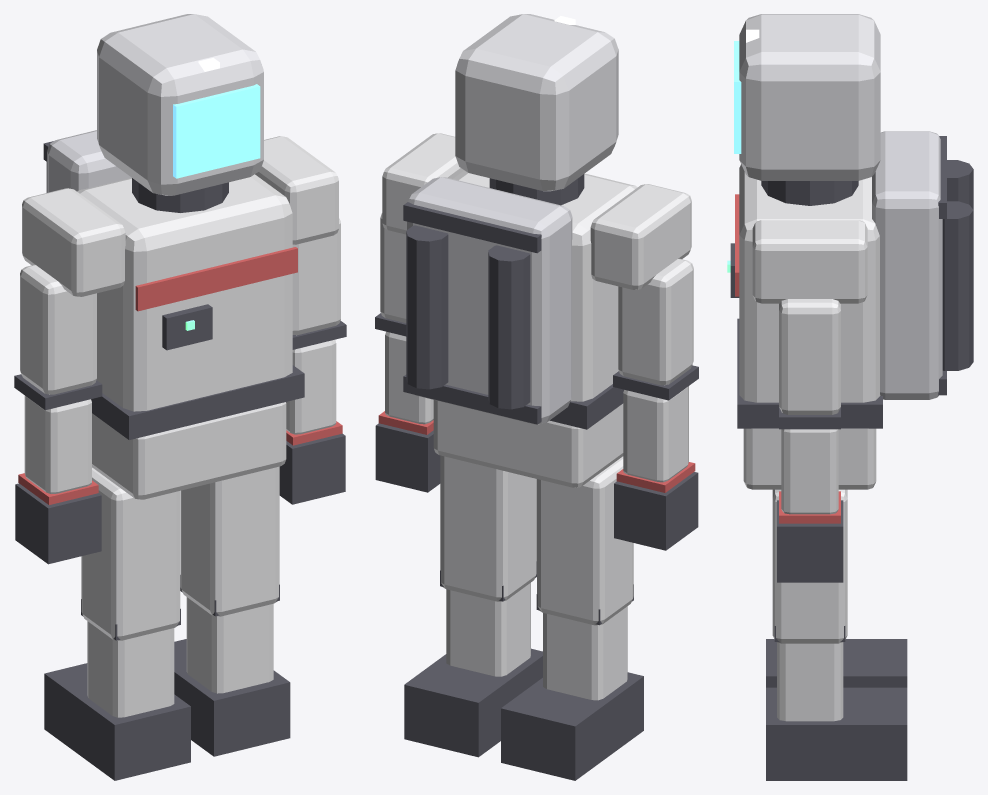
The model's file is astronaut.glb.
3 views of the same model, side by side, from view 1: azimuth 30°, elevation 25°; view 2: azimuth 150°, elevation 25°; view 3: azimuth 270°, elevation 25° (orthographic). The views are drawn at different scales.
Visible parts, largest first — view 1: Torso, Helmet, LeftUpperLeg, RightUpperLeg, Hips, LeftBoot, LeftShoulder, LeftUpperArm, RightBoot, RightLowerLeg, LeftLowerLeg, Visor (+15 smaller); view 2: Helmet, Backpack, RightUpperLeg, LeftUpperLeg, Hips, LeftBoot, RightBoot, Torso, LeftShoulder, LeftUpperArm, TankRight, TankLeft (+15 smaller); view 3: Helmet, Backpack, Torso, RightBoot, RightShoulder, RightUpperArm, RightUpperLeg, RightLowerLeg, TankRight, RightLowerArm, Hips, RightGlove (+9 smaller).
Boxes of the visible parts, bbox=[...] form: Torso: bbox=[77, 174, 292, 411]; Helmet: bbox=[97, 14, 263, 195]; LeftUpperLeg: bbox=[81, 467, 180, 640]; RightUpperLeg: bbox=[180, 466, 279, 616]; Hips: bbox=[92, 402, 286, 499]; LeftBoot: bbox=[44, 663, 190, 780]; LeftShoulder: bbox=[22, 188, 125, 296]; LeftUpperArm: bbox=[20, 265, 96, 394]; RightBoot: bbox=[174, 639, 290, 756]; RightLowerLeg: bbox=[186, 597, 273, 693]; LeftLowerLeg: bbox=[87, 621, 174, 717]; Visor: bbox=[173, 84, 260, 178]; Helmet: bbox=[455, 14, 618, 191]; Backpack: bbox=[407, 177, 572, 424]; RightUpperLeg: bbox=[440, 455, 536, 601]; LeftUpperLeg: bbox=[537, 456, 633, 625]; Hips: bbox=[433, 400, 623, 487]; LeftBoot: bbox=[501, 672, 643, 780]; RightBoot: bbox=[404, 648, 542, 757]; Torso: bbox=[453, 170, 637, 401]; LeftShoulder: bbox=[590, 184, 691, 289]; LeftUpperArm: bbox=[618, 258, 693, 385]; TankRight: bbox=[406, 225, 448, 389]; TankLeft: bbox=[488, 245, 530, 409]; Helmet: bbox=[739, 14, 880, 180]; Backpack: bbox=[872, 131, 942, 399]; Torso: bbox=[739, 164, 880, 402]; RightBoot: bbox=[766, 687, 907, 780]; RightShoulder: bbox=[752, 220, 867, 303]; RightUpperArm: bbox=[779, 299, 840, 414]; RightUpperLeg: bbox=[772, 489, 847, 643]; RightLowerLeg: bbox=[777, 642, 843, 721]; TankRight: bbox=[942, 201, 973, 370]; RightLowerArm: bbox=[781, 429, 838, 514]; Hips: bbox=[743, 428, 876, 489]; RightGlove: bbox=[777, 500, 843, 582].
Size of the model in its own units: 0.79 by 1.76 by 0.557.
